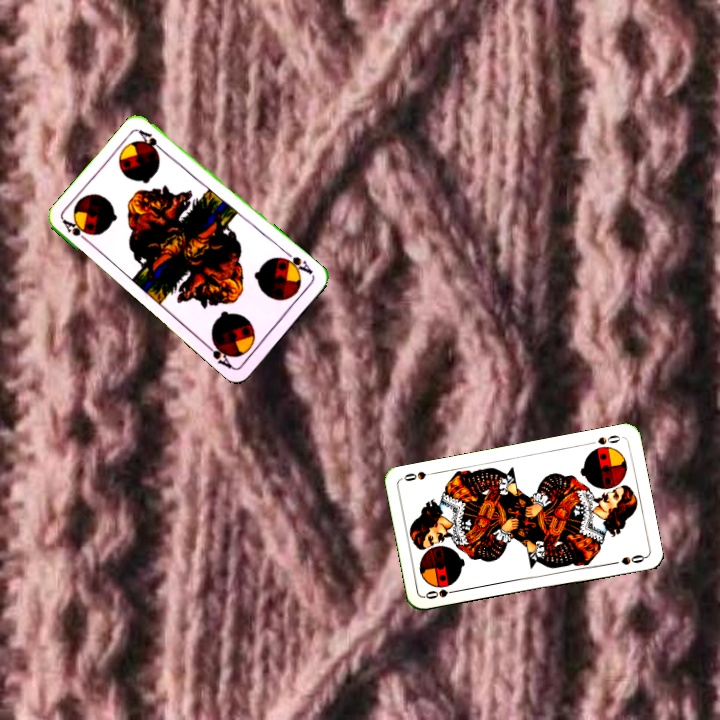SA: (277, 247, 316, 277), (59, 215, 94, 246)
SO: (421, 585, 462, 602), (584, 431, 623, 447)
